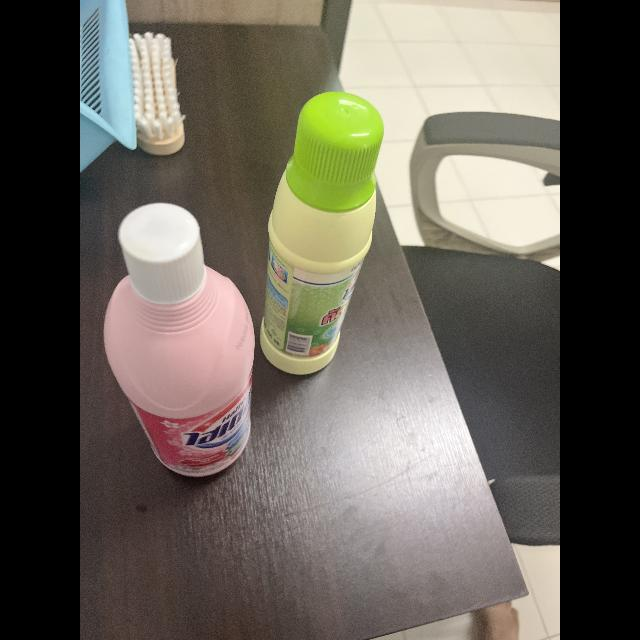chemical_plastic_bottle: (98, 198, 256, 482), (255, 86, 388, 376)
